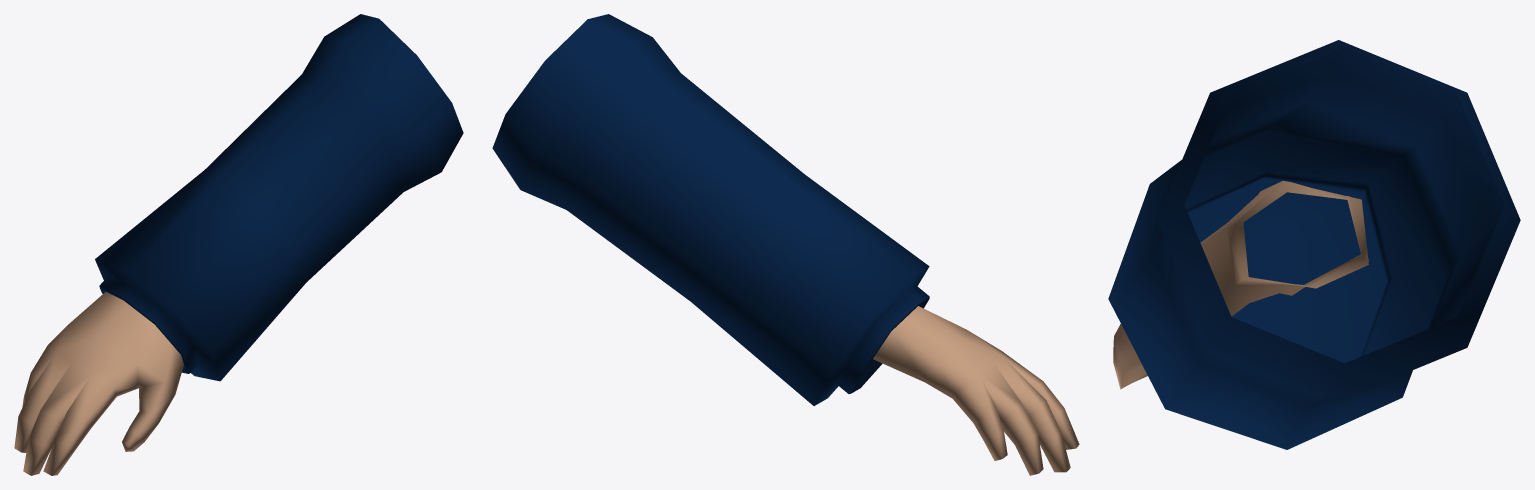
Rendered from leftlower.obj.
3 renders of one model, left to right at view 1: azimuth 30°, elevation 25°; view 2: azimuth 150°, elevation 25°; view 3: azimuth 270°, elevation 25°, orthographic. The views are drawn at different scales.
Visible parts, largest first — view 1: polySurface6 _Mesh1, _Mesh1 polySurface8; view 2: polySurface6 _Mesh1, _Mesh1 polySurface8; view 3: polySurface6 _Mesh1, _Mesh1 polySurface8.
Part boxes in pixels (left/top/right/bottom): polySurface6 _Mesh1: left=95, top=14, right=463, bottom=381; _Mesh1 polySurface8: left=14, top=292, right=183, bottom=475; polySurface6 _Mesh1: left=492, top=14, right=929, bottom=405; _Mesh1 polySurface8: left=873, top=306, right=1079, bottom=475; polySurface6 _Mesh1: left=1108, top=40, right=1520, bottom=449; _Mesh1 polySurface8: left=1113, top=180, right=1368, bottom=389.
Size of the model in its own units: 25.73 by 18.01 by 10.07.
